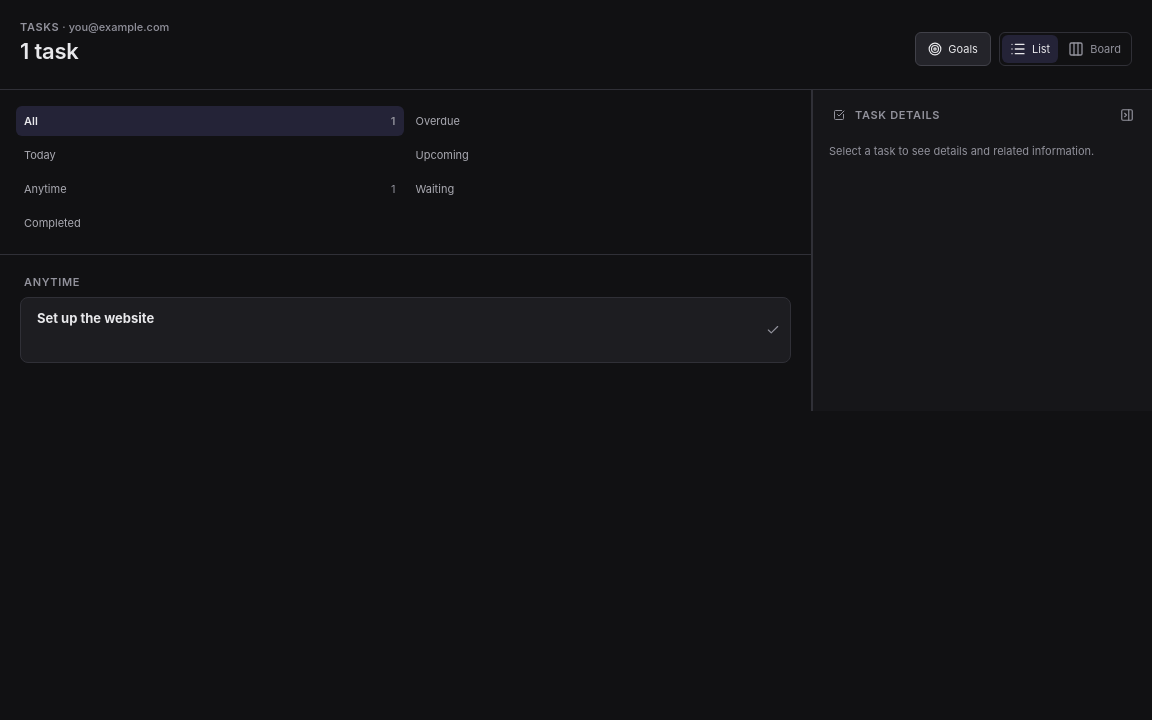
Test case: TaskSidebar › offers an undo toast and an aria-live announcement when completing a task
Click the button named "Complete Set up the website": (773, 330) top-left (760, 317), bottom-right (786, 343)
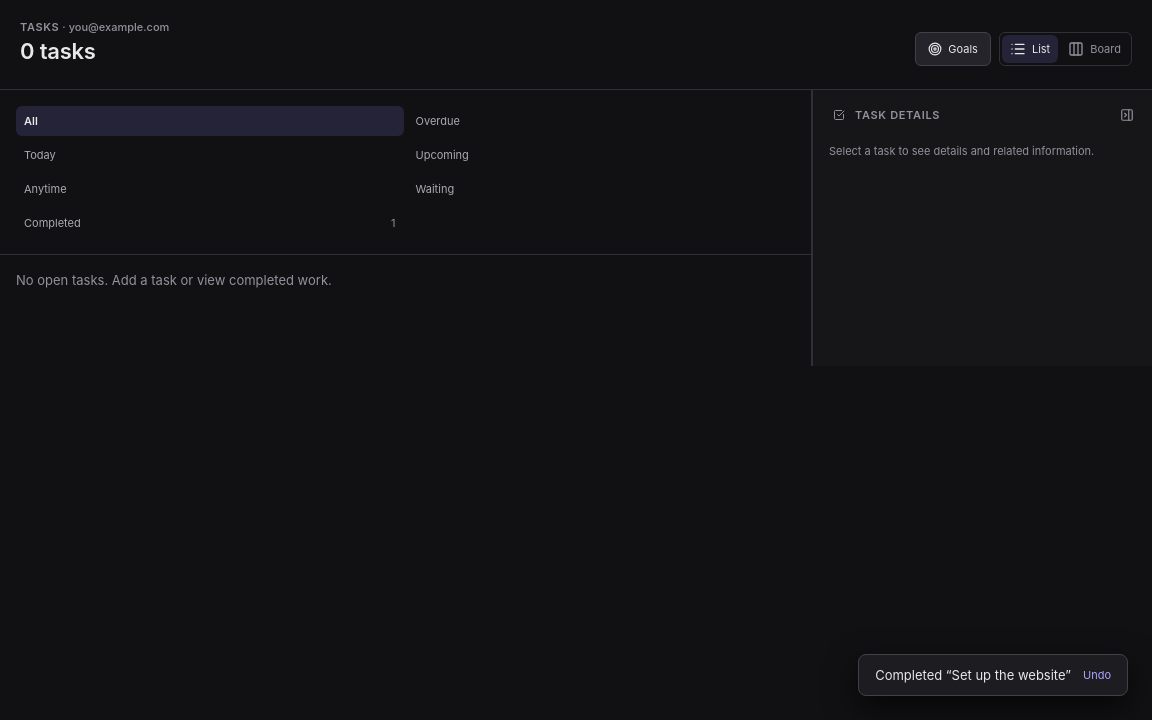
Click the button "Undo": (1097, 675) top-left (1083, 668), bottom-right (1111, 682)
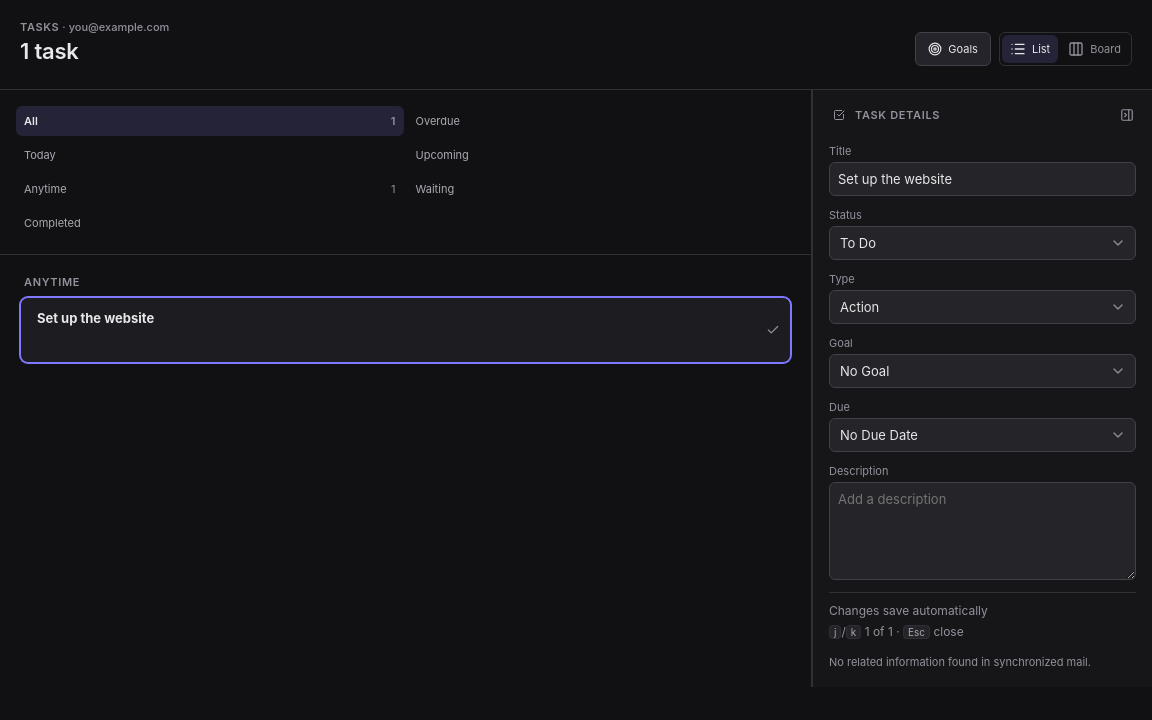
Check: the button "Undo" is gone
